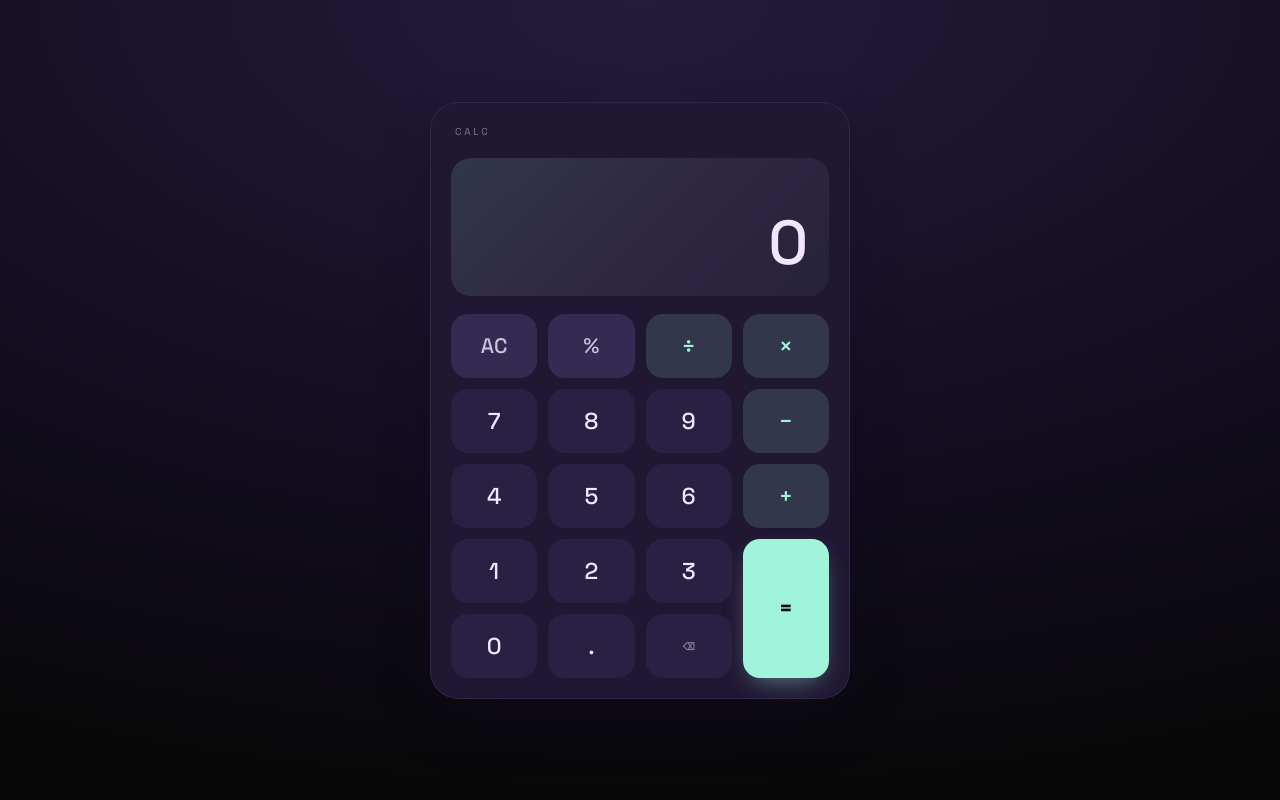
digit entry, backspace, and clear › typing digits builds up the display
Click the button "1": {"x": 494, "y": 570} [451,538,537,602]
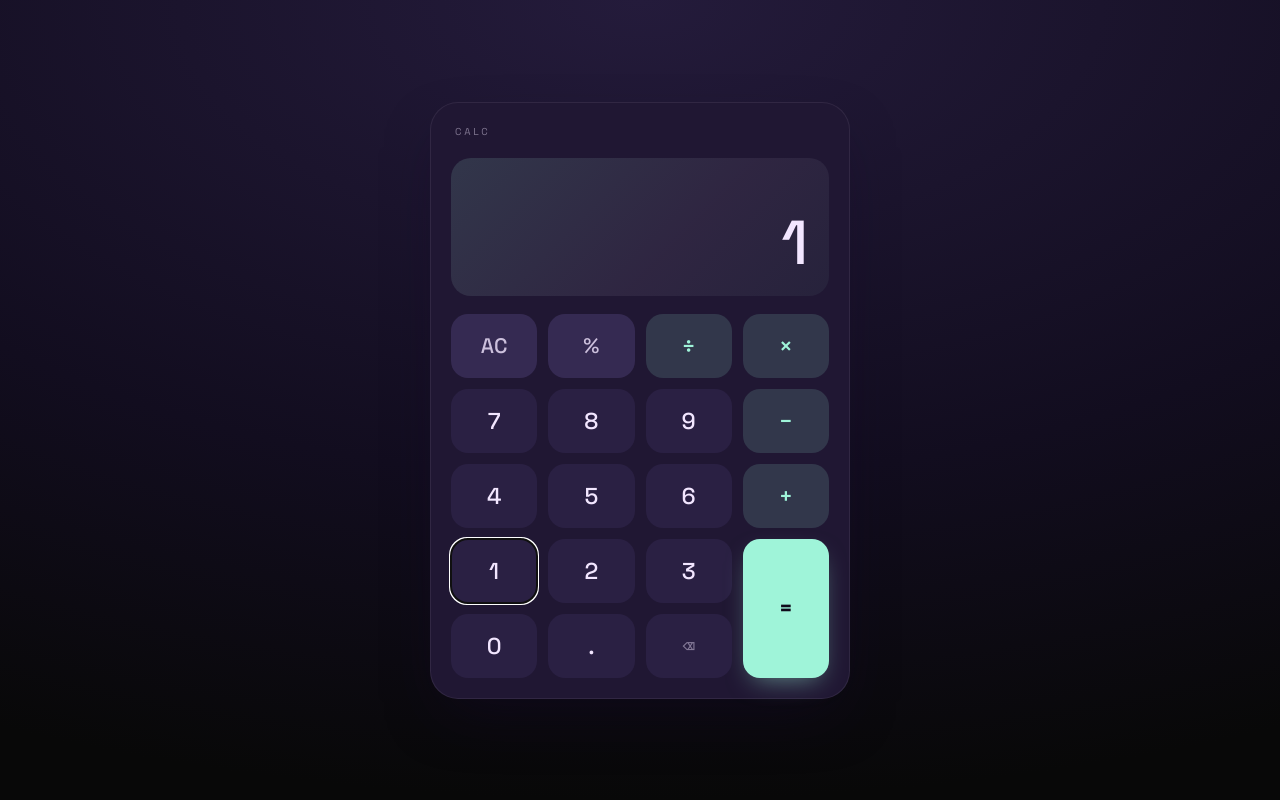
Click the button "2": {"x": 591, "y": 570} [548,538,635,602]
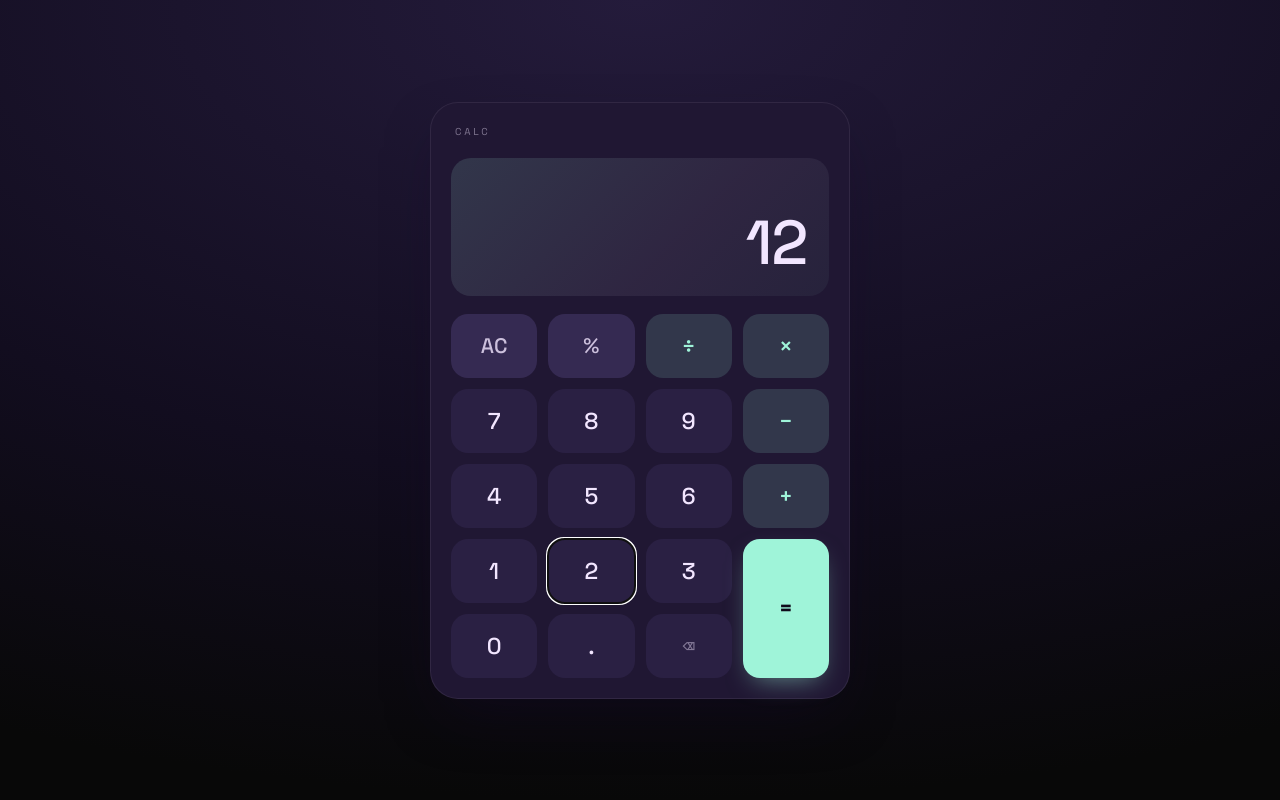
Result: the text "12" is shown at [745,202,807,282]
